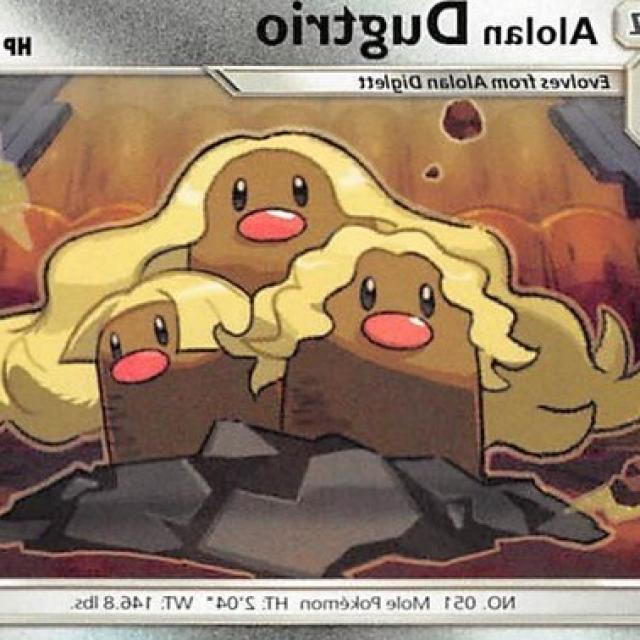Dugtrio: (88, 145, 492, 482)
